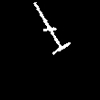double_crochet: (34, 3, 69, 54)
